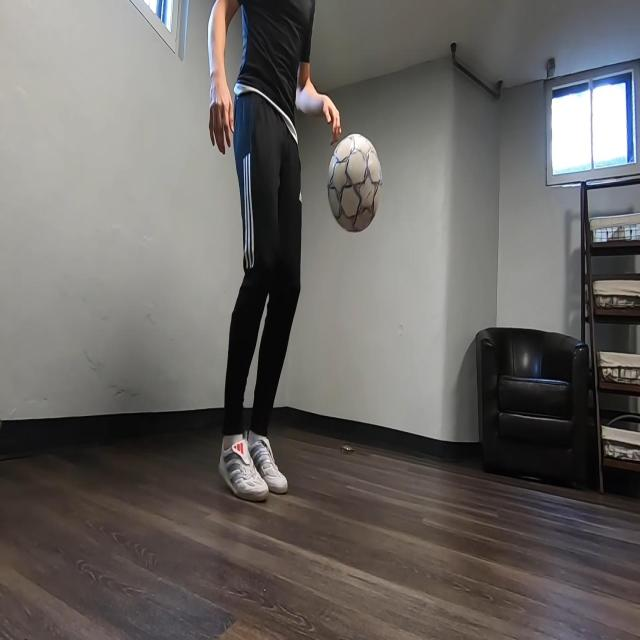Soccer Ball: (328, 133, 382, 234)
